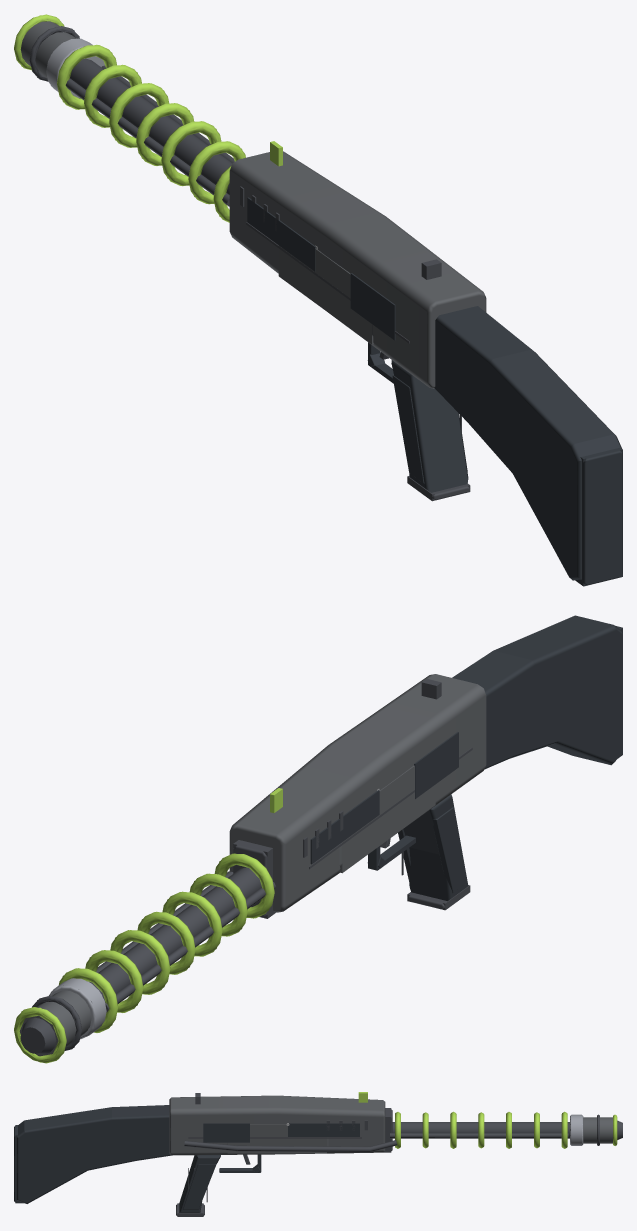
Rendered from e_pulse.glb.
The picture shows the model from 3 angles, top to bottom: view 1: azimuth 30°, elevation 25°; view 2: azimuth 150°, elevation 25°; view 3: azimuth 270°, elevation 25°; orthographic projection. The views are drawn at different scales.
Visible parts, largest first — view 1: L0, L1; view 2: L0, L1; view 3: L0, L1.
Part boxes in pixels (x1,y1,x2,y2): L0: (14, 14, 622, 585); L1: (18, 15, 622, 586); L0: (14, 615, 622, 1063); L1: (14, 626, 622, 1062); L0: (14, 1092, 622, 1215); L1: (15, 1108, 622, 1216).
Size of the model in its own units: 0.069 by 0.1989 by 0.9198.
